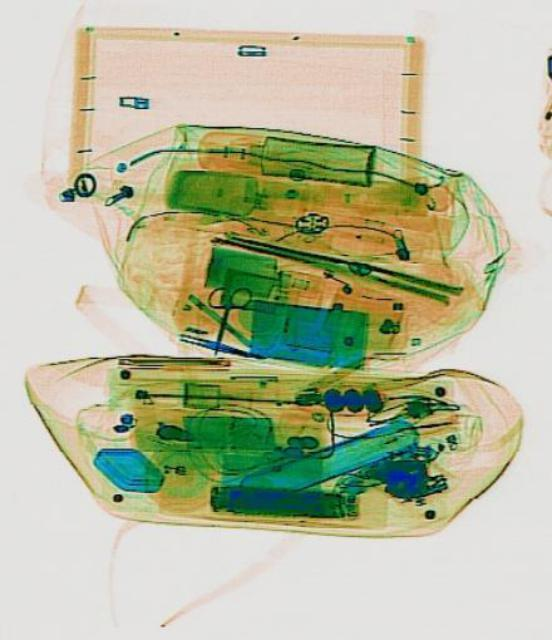Scissors: (192, 278, 250, 360)
